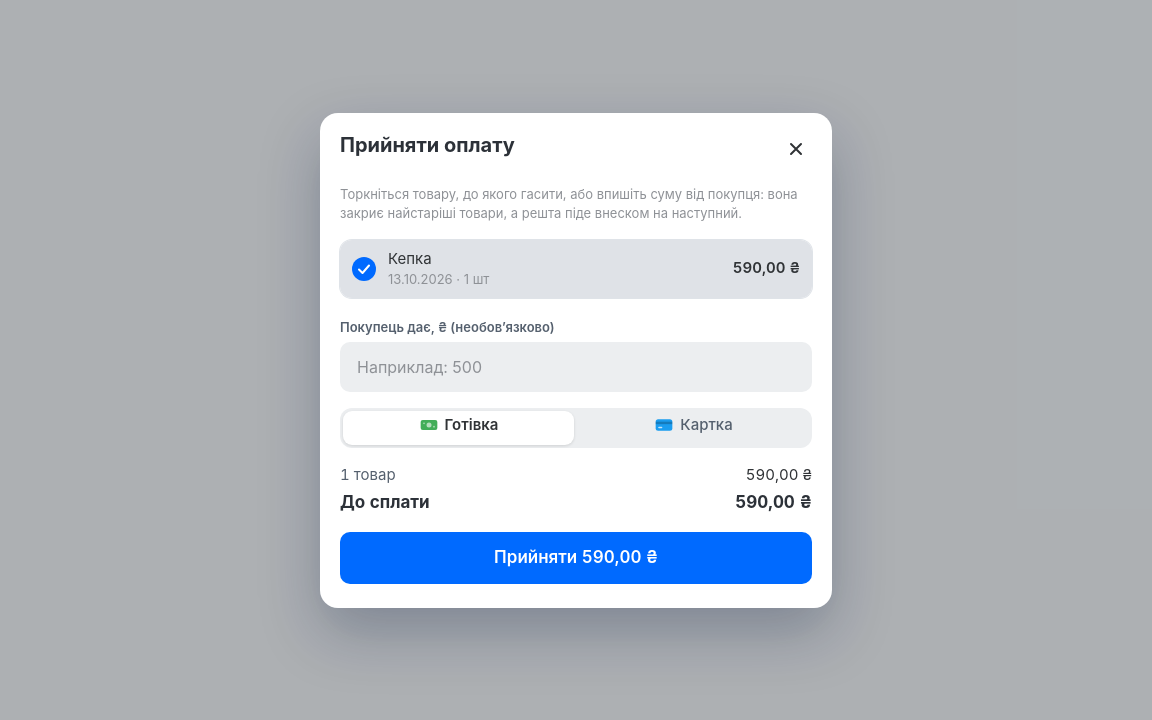
Test case: PaySheet › stops offering a «внесок» once the server says the store fiscalises after all
Step 1. Type "300" into the field with placeholder "Наприклад: 500" → (576, 366), box x1=340 y1=342 x2=812 y2=392
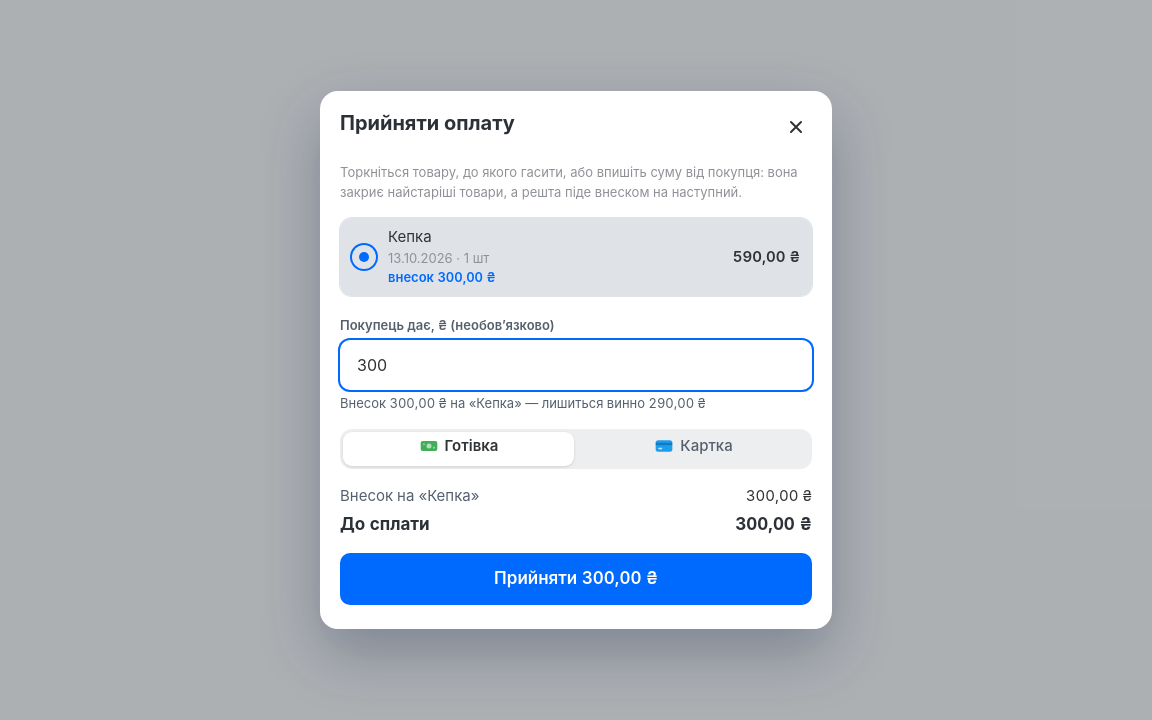
Step 2. Click the button "Прийняти 300,00 ₴" → (576, 579), box x1=340 y1=553 x2=812 y2=605
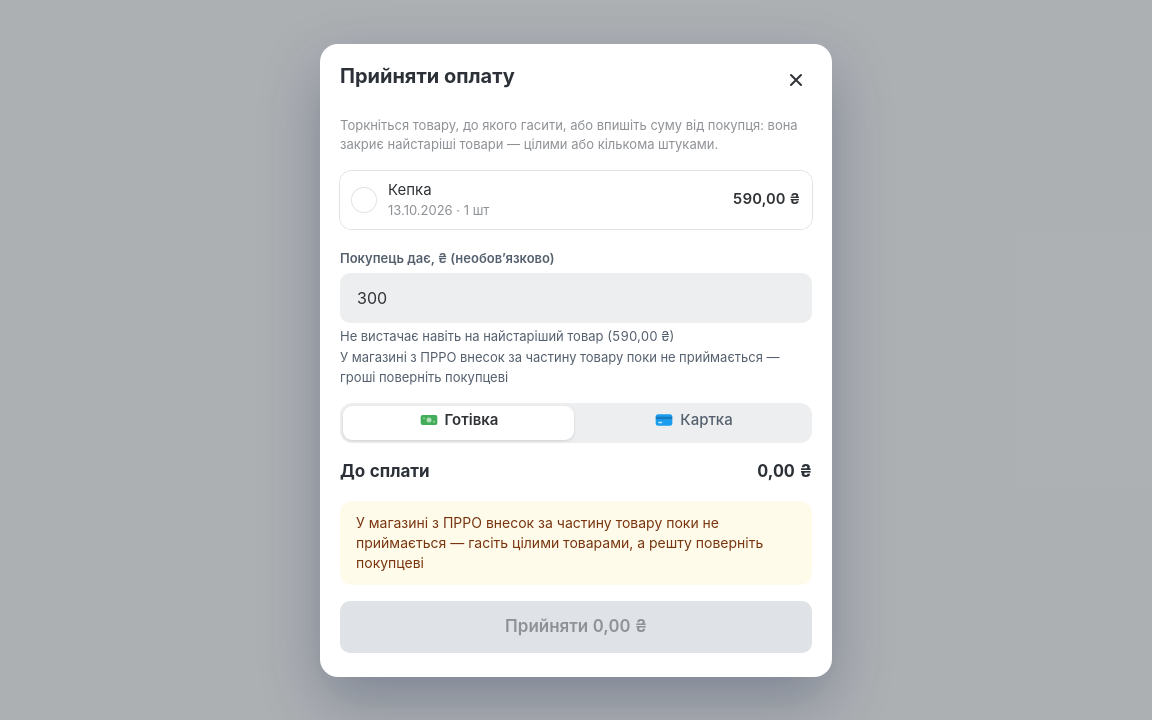
Check: the message with test id "debts-pay-error" shows "решту поверніть покупцеві", box x1=356 y1=514 x2=763 y2=570
Check: the element with test id "debts-pay-offer" shows "гроші поверніть покупцеві", box x1=340 y1=349 x2=780 y2=384
Check: the button "Прийняти 0,00 ₴" is disabled, box x1=340 y1=600 x2=812 y2=652
